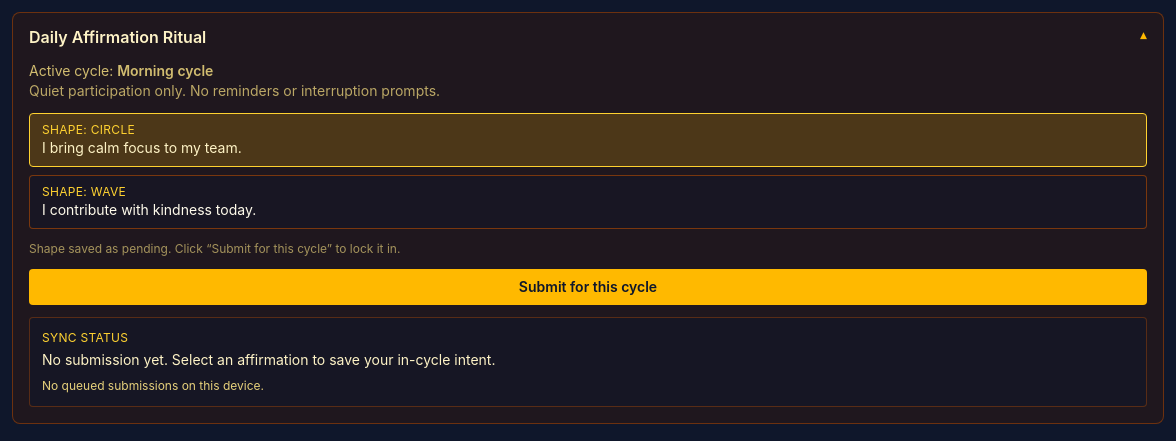
AffirmationRitualPanel › supports in-cycle update before finalization and then final sync state
Click the text "I bring calm focus to my team." at (142,148), box [42,139,242,156]
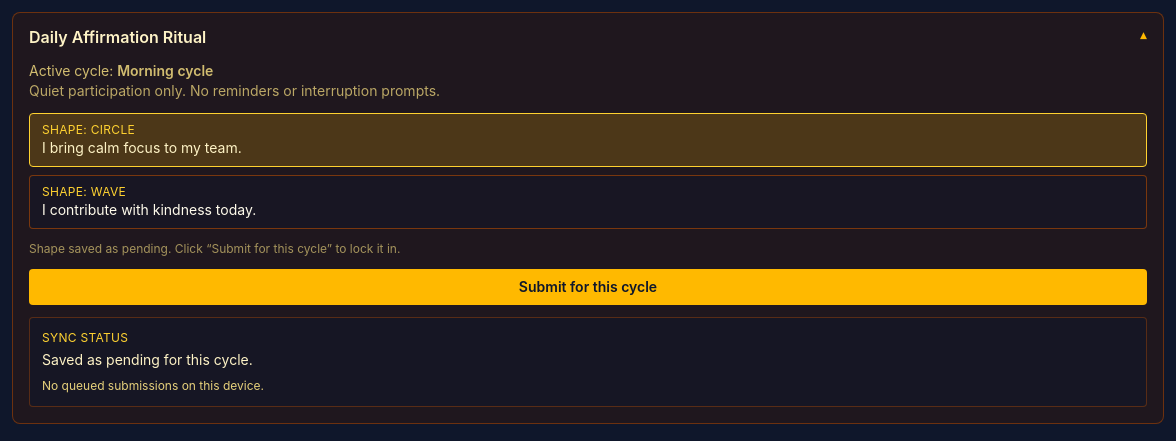
Now the text "Saved as pending for this cycle." is shown, box [42,351,253,368]
Click the text "I contribute with kindness today." at (149,210), box [42,201,256,218]
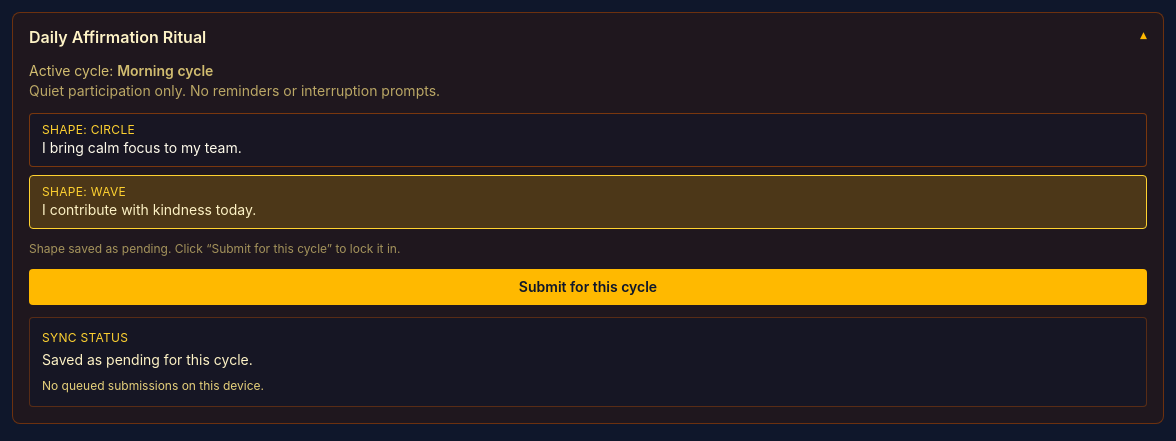
Now the text "Saved as pending for this cycle." is shown, box [42,351,253,368]
Click the button "Submit for this cycle" at (588,287), box [29,269,1147,305]
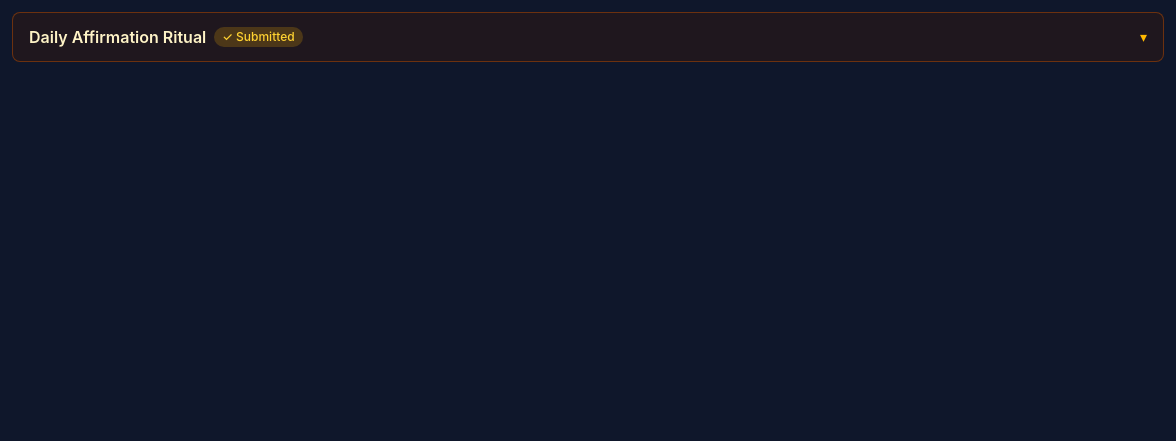
Now the text "✓ Submitted" is shown, box [214,27,303,47]
